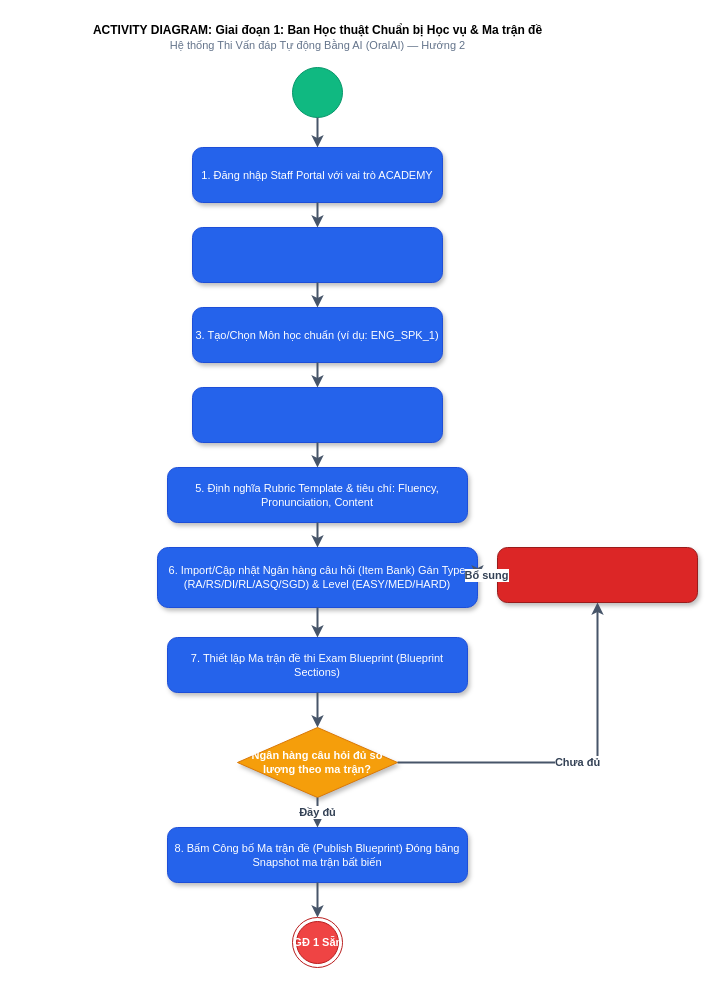
Some shapes in this 721 by 985 pixel diagram are drawn without their labels. Here are the shapes that lost their labels. From the top down, the centre of each, then its label:
At (317,92): "Bắt đầu".
At (318,256): "2. Tạo Học kỳ mới (ví dụ: Fall 2026)".
At (318,416): "4. Tạo Course Offering (Gắn môn vào học kỳ Fall 2026)".
At (598,576): "Cảnh báo thiếu câu hỏi Bổ sung thêm vào Item Bank".
